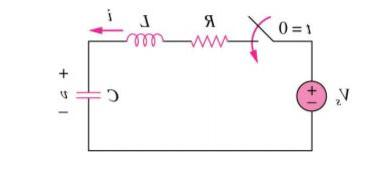Capacitor: (73, 79, 104, 110)
